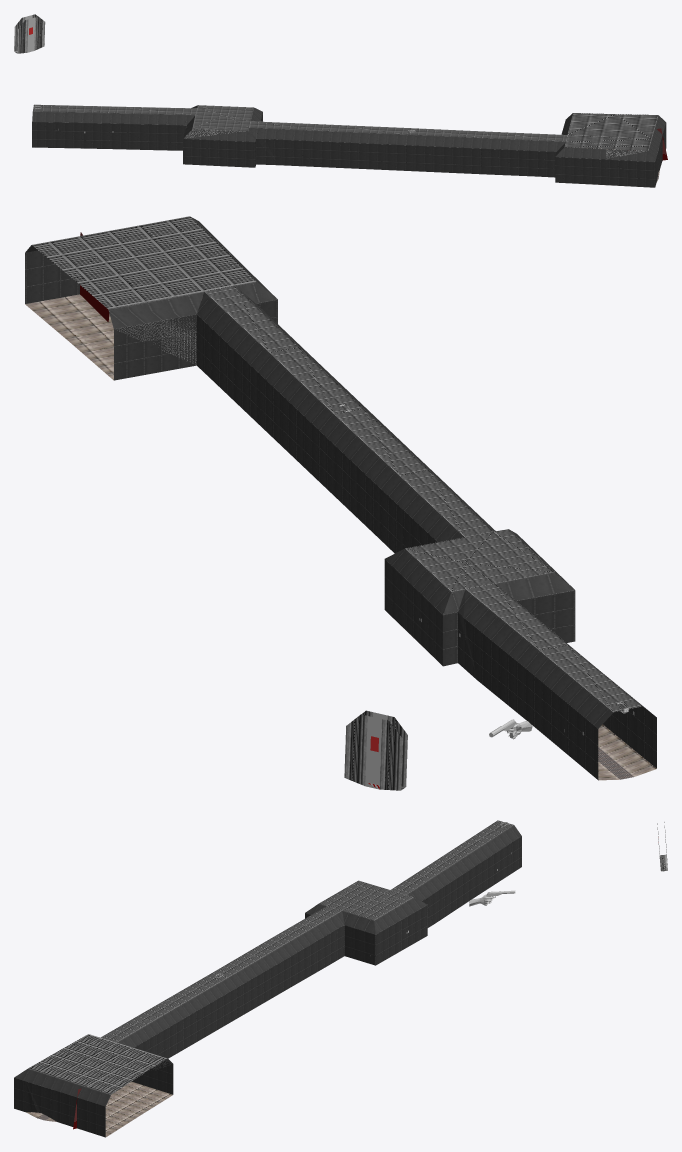
File: dam13.obj
3 views of the same model, one above another, from view 1: azimuth 30°, elevation 25°; view 2: azimuth 150°, elevation 25°; view 3: azimuth 270°, elevation 25° (orthographic). The views are drawn at different scales.
Visible parts, largest first — view 1: 010_61410439_c.bmp, 000_61410439_c.bmp, 016_61410439_c.bmp, 021_61410439_c.bmp, 024_1BE3C87_c.bmp, 014_1BE3C87_c.bmp, 003_1BE3C87_c.bmp, 019_1BE3C87_c.bmp, 005_6C4CBB2A_c.bmp, 011_61410439_c.bmp; view 2: 010_61410439_c.bmp, 000_61410439_c.bmp, 024_1BE3C87_c.bmp, 016_61410439_c.bmp, 014_1BE3C87_c.bmp, 021_61410439_c.bmp, 003_1BE3C87_c.bmp, 019_1BE3C87_c.bmp, 022_2667E92D_c.bmp, 005_6C4CBB2A_c.bmp, 001_2667E92D_c.bmp, 006_3216F058_c.bmp; view 3: 010_61410439_c.bmp, 021_61410439_c.bmp, 000_61410439_c.bmp, 024_1BE3C87_c.bmp, 016_61410439_c.bmp, 014_1BE3C87_c.bmp, 022_2667E92D_c.bmp, 003_1BE3C87_c.bmp, 019_1BE3C87_c.bmp.
Boxes of the visible parts, x1=… form: 010_61410439_c.bmp: x1=183, y1=105, x2=407, y2=170; 000_61410439_c.bmp: x1=32, y1=111, x2=194, y2=150; 016_61410439_c.bmp: x1=406, y1=134, x2=565, y2=177; 021_61410439_c.bmp: x1=555, y1=113, x2=666, y2=187; 024_1BE3C87_c.bmp: x1=564, y1=113, x2=658, y2=150; 014_1BE3C87_c.bmp: x1=192, y1=105, x2=409, y2=134; 003_1BE3C87_c.bmp: x1=33, y1=104, x2=197, y2=115; 019_1BE3C87_c.bmp: x1=407, y1=128, x2=567, y2=141; 005_6C4CBB2A_c.bmp: x1=14, y1=14, x2=45, y2=53; 011_61410439_c.bmp: x1=183, y1=128, x2=254, y2=141; 010_61410439_c.bmp: x1=320, y1=409, x2=575, y2=666; 000_61410439_c.bmp: x1=458, y1=588, x2=656, y2=779; 024_1BE3C87_c.bmp: x1=32, y1=216, x2=256, y2=309; 016_61410439_c.bmp: x1=196, y1=288, x2=376, y2=481; 014_1BE3C87_c.bmp: x1=334, y1=409, x2=553, y2=591; 021_61410439_c.bmp: x1=25, y1=216, x2=277, y2=380; 003_1BE3C87_c.bmp: x1=466, y1=583, x2=642, y2=712; 019_1BE3C87_c.bmp: x1=204, y1=285, x2=363, y2=413; 022_2667E92D_c.bmp: x1=25, y1=294, x2=113, y2=380; 005_6C4CBB2A_c.bmp: x1=344, y1=710, x2=407, y2=790; 001_2667E92D_c.bmp: x1=598, y1=724, x2=656, y2=780; 006_3216F058_c.bmp: x1=365, y1=712, x2=387, y2=789; 010_61410439_c.bmp: x1=229, y1=897, x2=427, y2=1018; 021_61410439_c.bmp: x1=14, y1=1044, x2=173, y2=1137; 000_61410439_c.bmp: x1=406, y1=825, x2=521, y2=927; 024_1BE3C87_c.bmp: x1=28, y1=1034, x2=167, y2=1094; 016_61410439_c.bmp: x1=117, y1=977, x2=237, y2=1058; 014_1BE3C87_c.bmp: x1=214, y1=880, x2=413, y2=976; 022_2667E92D_c.bmp: x1=26, y1=1081, x2=172, y2=1137; 003_1BE3C87_c.bmp: x1=391, y1=820, x2=513, y2=894; 019_1BE3C87_c.bmp: x1=101, y1=972, x2=228, y2=1042.
Bounding box in the file's own units: 0.7293 × 0.0999 × 0.7197.
